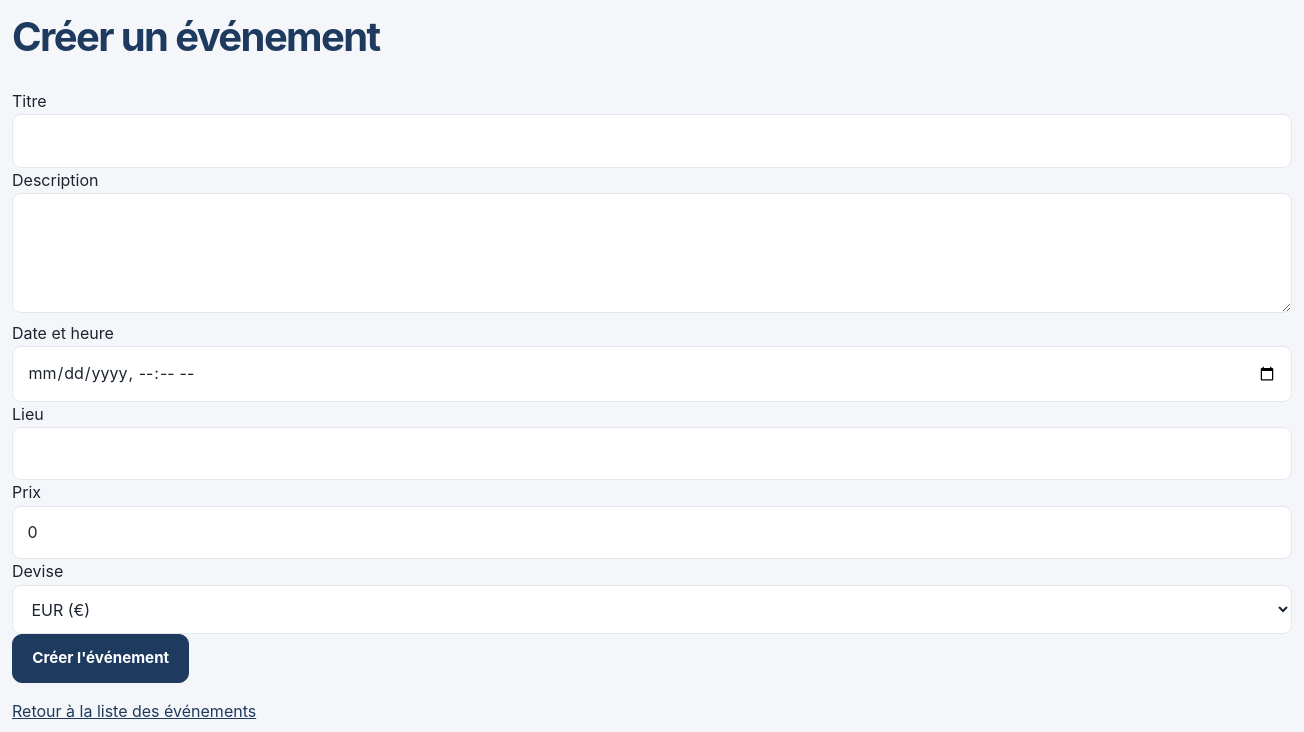
EventFormPage › affiche le message d'erreur renvoyé par l'API
In the field labelled "Titre": point(652, 141) [12, 114, 1292, 168], type "Conférence React"
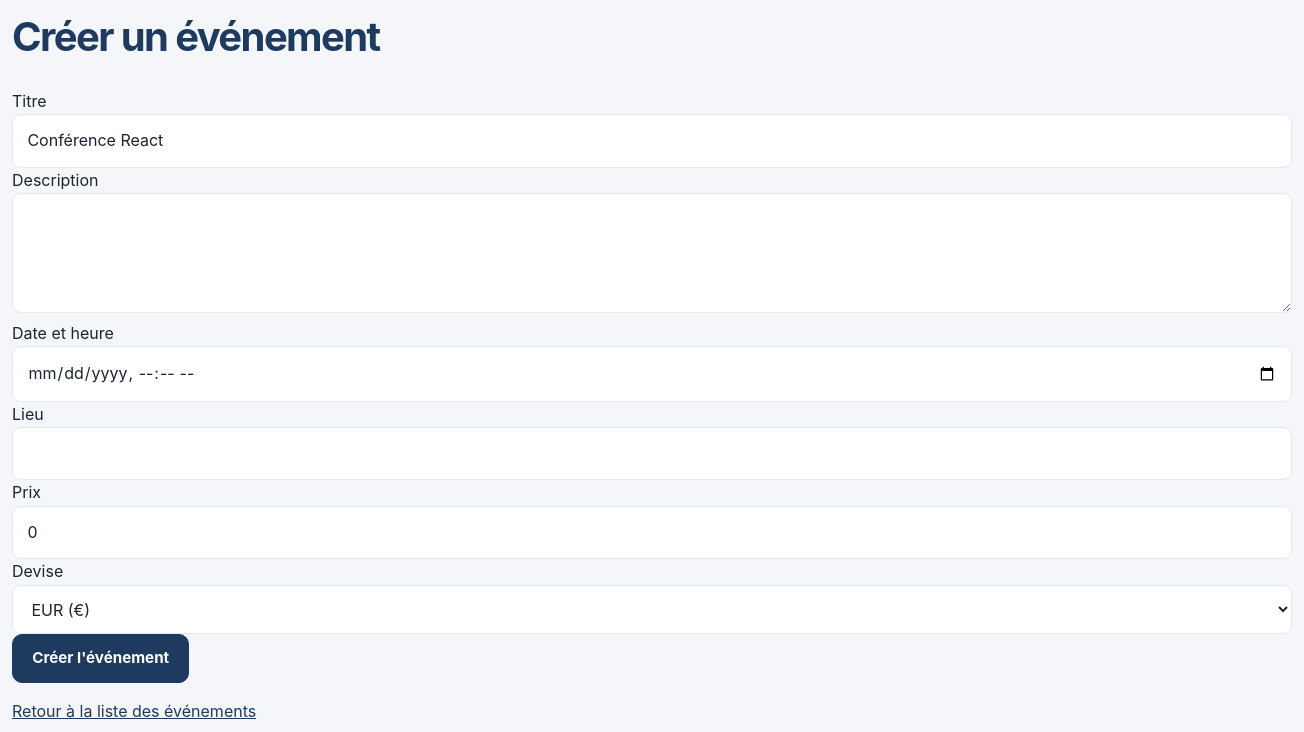
In the text box labelled "Description": point(652, 253) [12, 193, 1292, 313], type "Découverte de React"
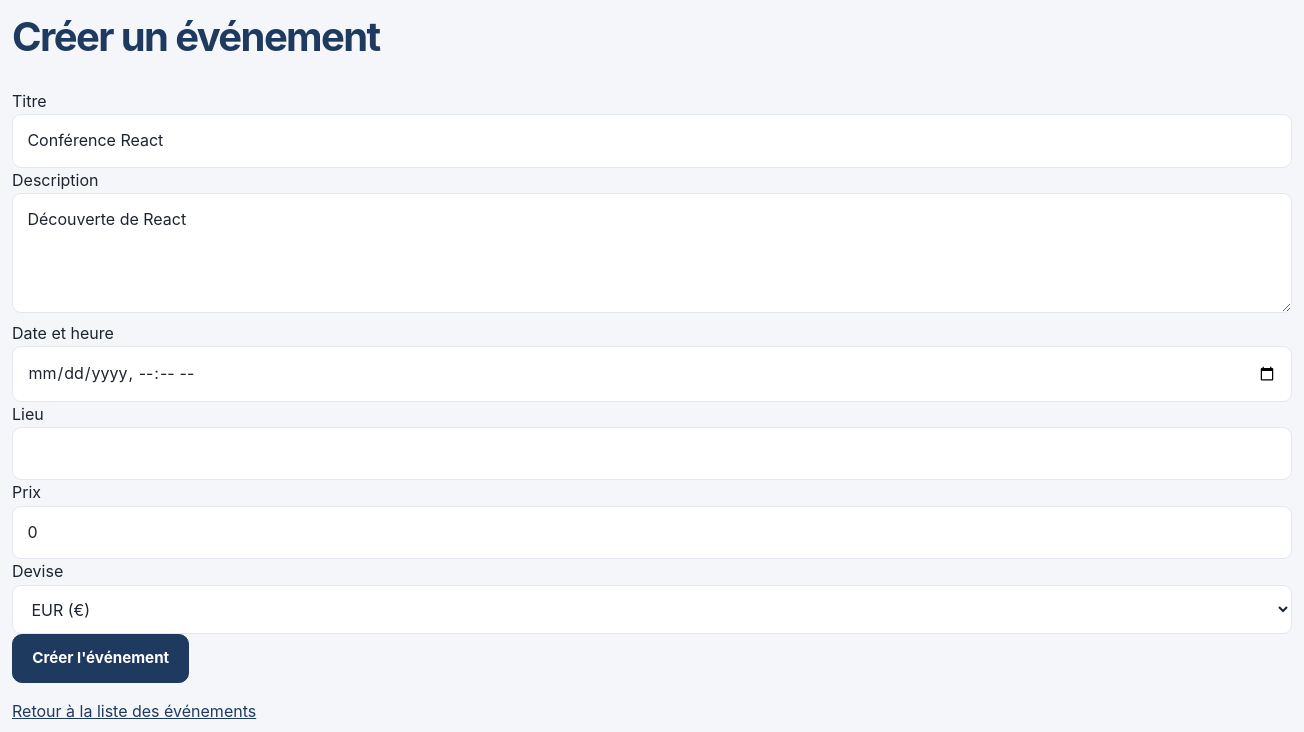
In the field labelled "Date et heure": point(652, 374) [12, 346, 1292, 402], type "2026-12-15T18:00"
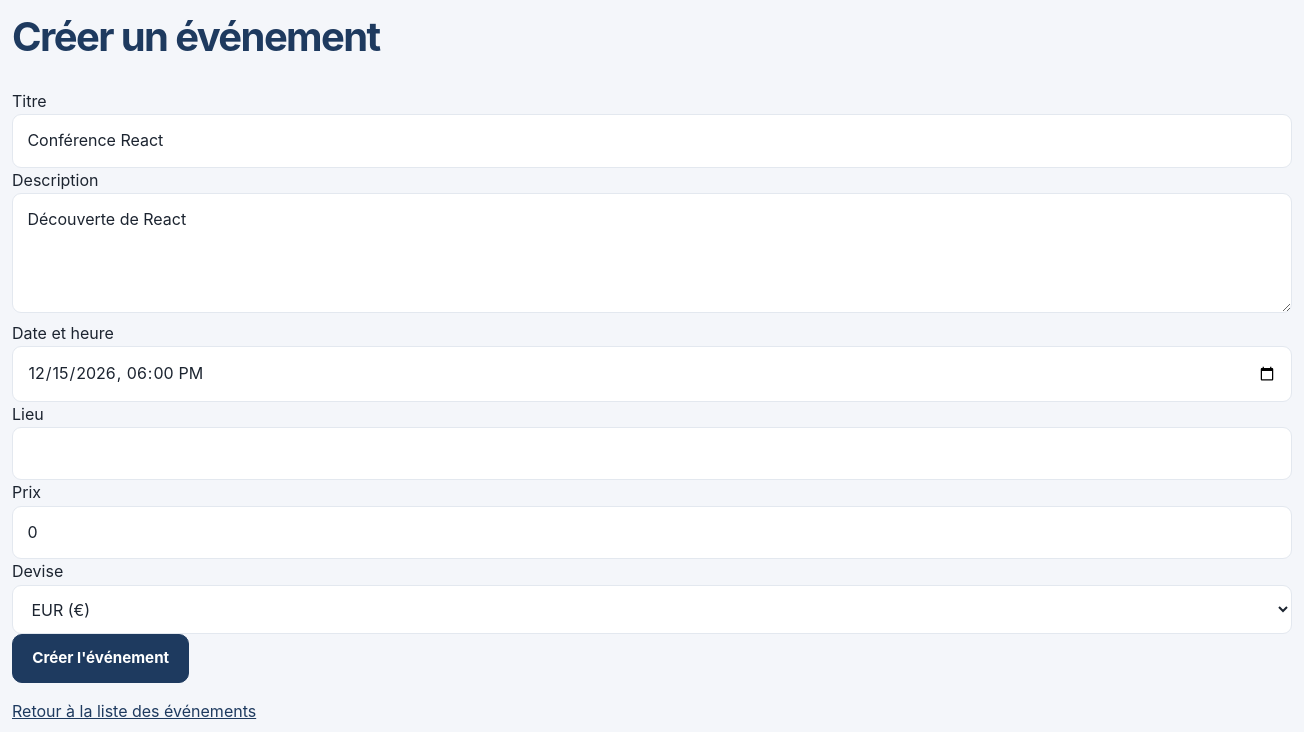
In the field labelled "Lieu": point(652, 454) [12, 427, 1292, 480], type "Montpellier"
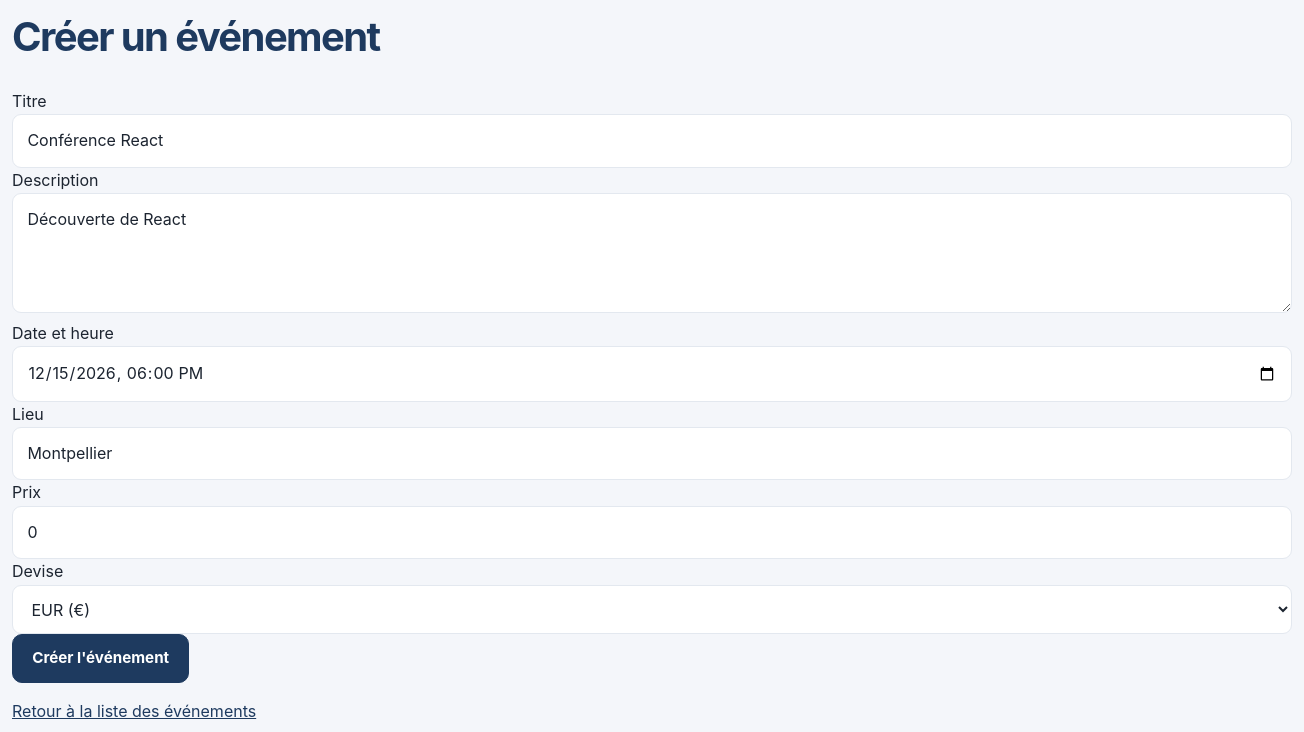
Replace the text in the number field labelled "Prix" with "15": point(652, 532) [12, 506, 1292, 559]
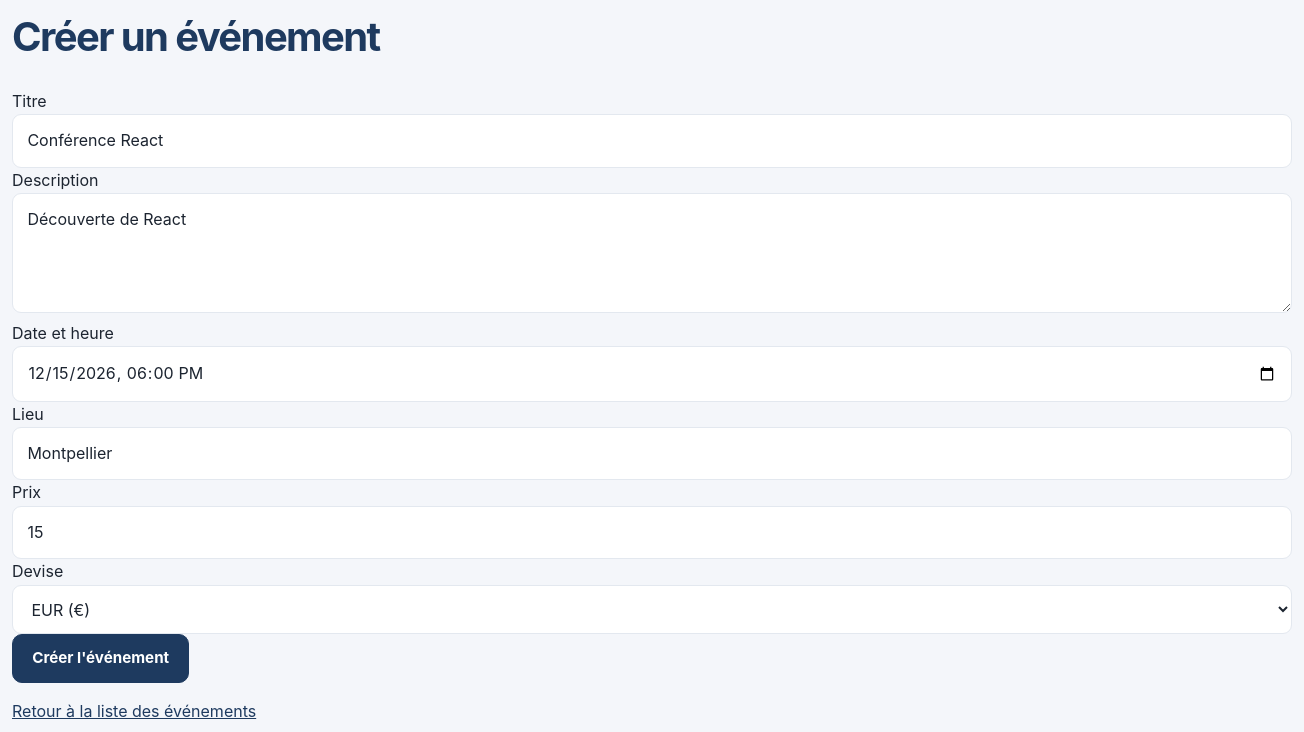
Select "EUR (€)" in the dropdown labelled "Devise": point(652, 610) [12, 585, 1292, 634]
Click the button "Créer l'événement": point(101, 659) [12, 634, 189, 683]
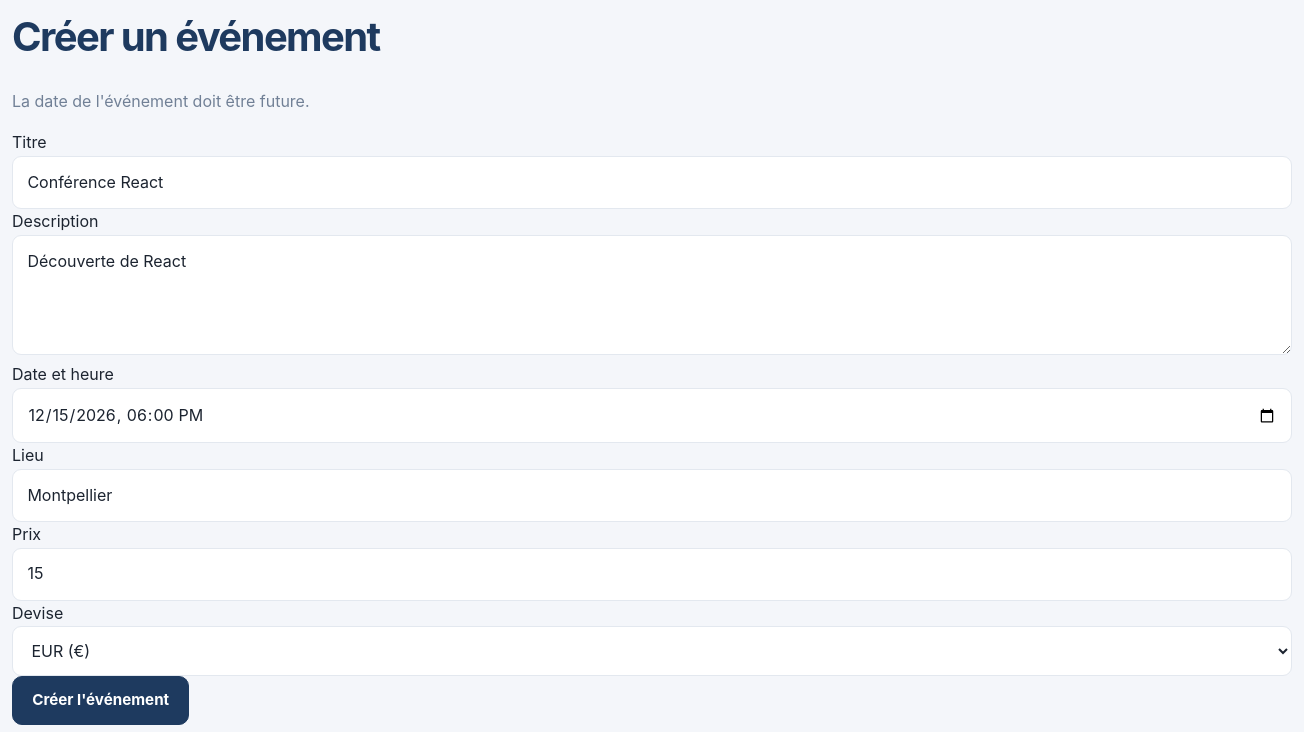
Expected: the heading "Créer un événement" is shown, [12, 12, 380, 61]
Now the message reads "La date de l'événement doit être future.", box [12, 91, 310, 111]
